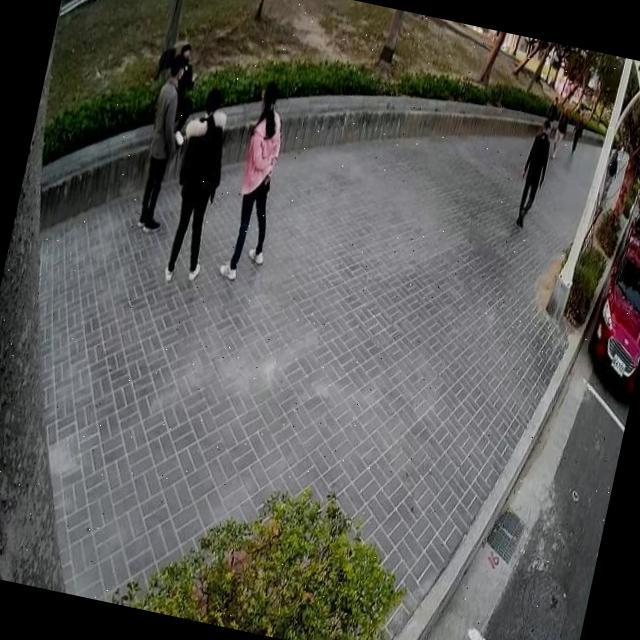person: (212, 72, 302, 288), (150, 79, 242, 290), (126, 44, 199, 239), (508, 110, 558, 230), (160, 37, 208, 146), (547, 100, 573, 162), (598, 146, 621, 202), (539, 94, 562, 136), (566, 108, 586, 154)
